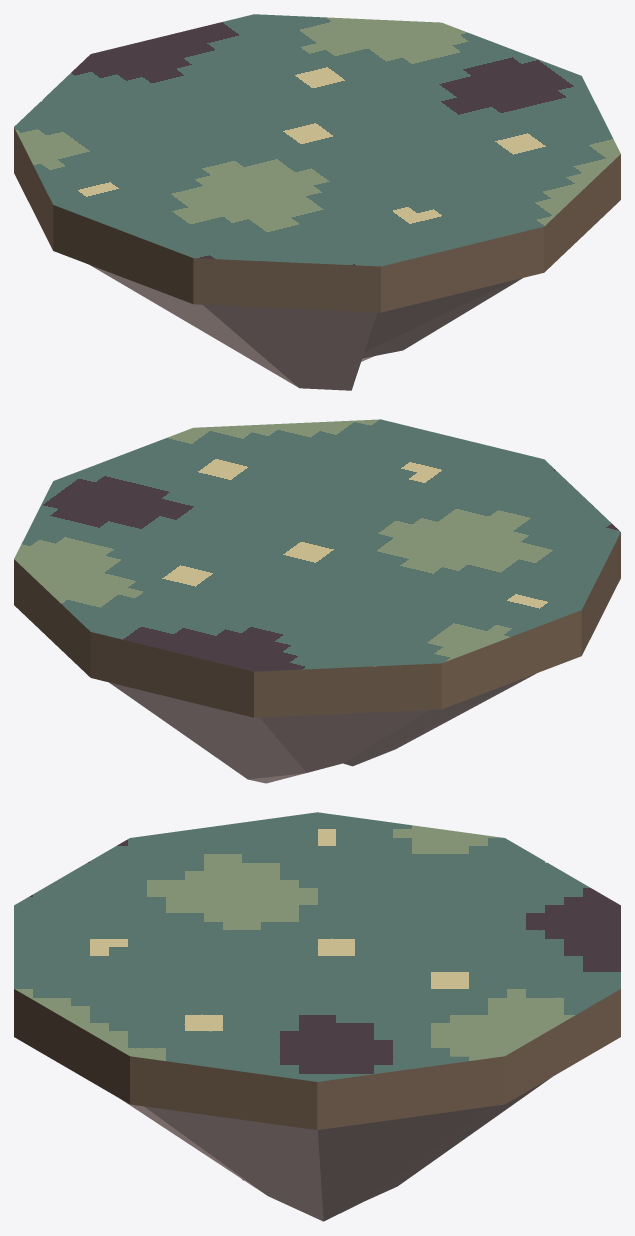
File: island.glb
3 views of the same model, one above another, from view 1: azimuth 30°, elevation 25°; view 2: azimuth 150°, elevation 25°; view 3: azimuth 270°, elevation 25° (orthographic). The views are drawn at different scales.
Parts seen in each view (by area): view 1: Top, Under; view 2: Top, Under; view 3: Top, Under.
Boxes of the visible parts, x1=… form: Top: x1=14, y1=14, x2=620, y2=312; Under: x1=90, y1=265, x2=522, y2=390; Top: x1=14, y1=419, x2=620, y2=717; Under: x1=109, y1=673, x2=535, y2=783; Top: x1=14, y1=812, x2=620, y2=1130; Under: x1=121, y1=1077, x2=551, y2=1221.
Size of the model in its own units: 6 by 2.52 by 5.71.
Materials: 3 (1 with a texture image).
